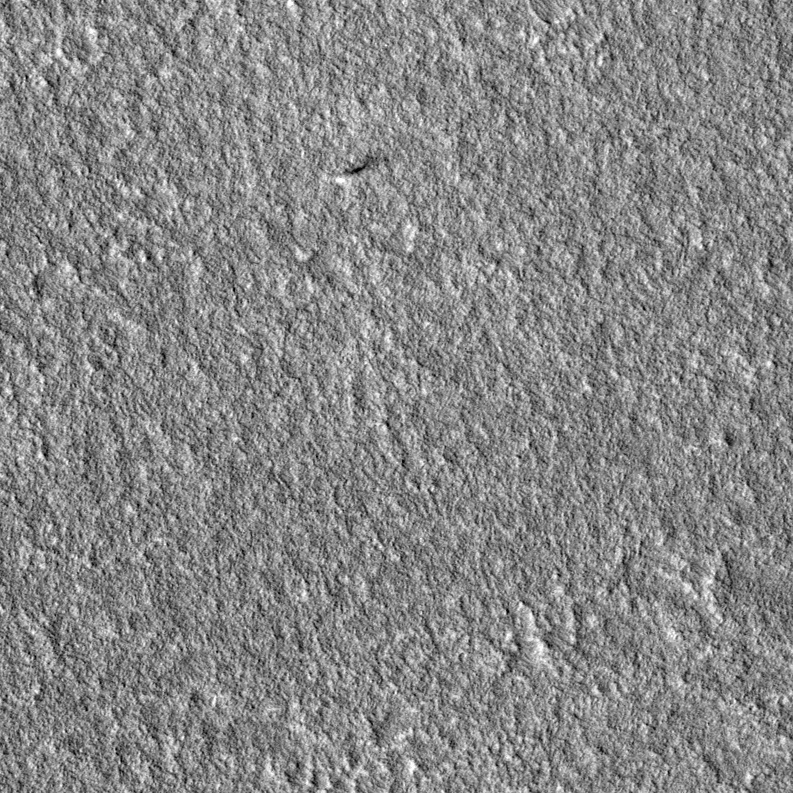dust_devil: (333, 163, 365, 189)
